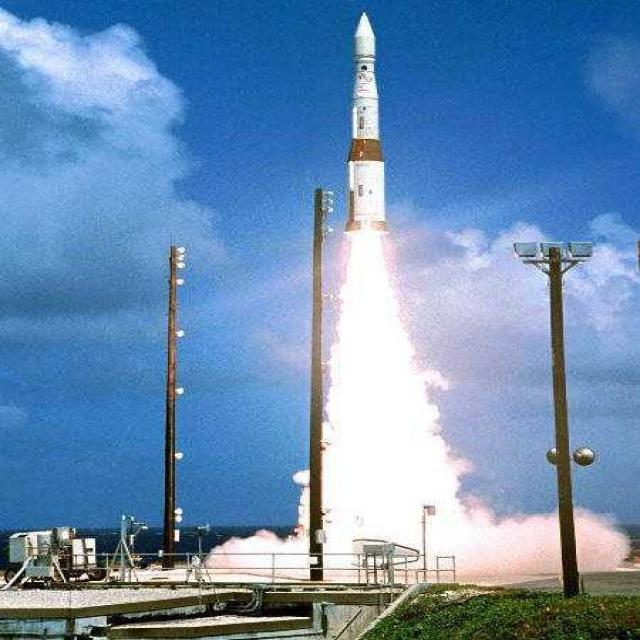missile: (342, 8, 398, 235)
